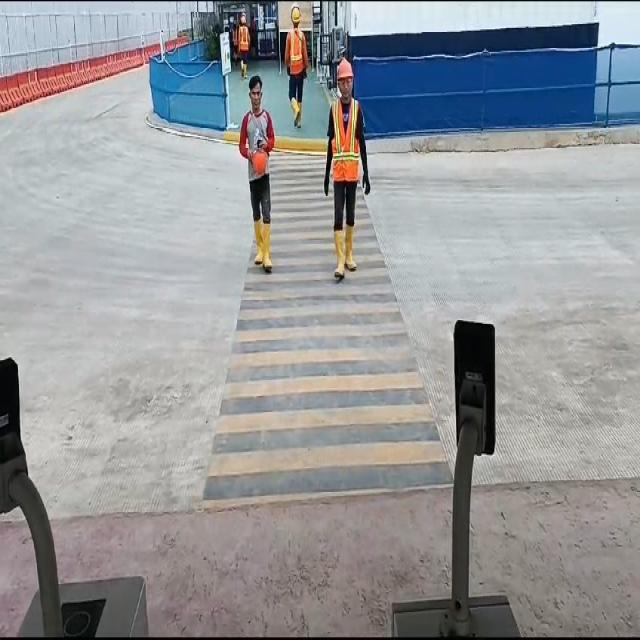gloves: (362, 170, 372, 196), (324, 177, 330, 196)
helmet: (252, 150, 268, 180), (338, 58, 355, 78), (293, 2, 300, 22)
safety_vest: (332, 100, 360, 182), (290, 29, 303, 75)
